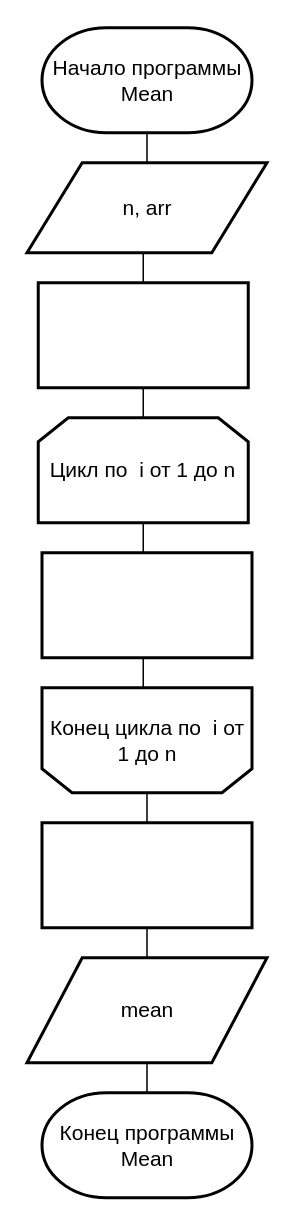
Image size: 294x1224. Some labels were removed from this diagram. The centre of each missing label's shape, as x and y in pixels:
"mean = sum / n" goes at point (146, 874).
"sum = 0" goes at point (142, 334).
"sum = sum + arr[i]" goes at point (146, 604).
